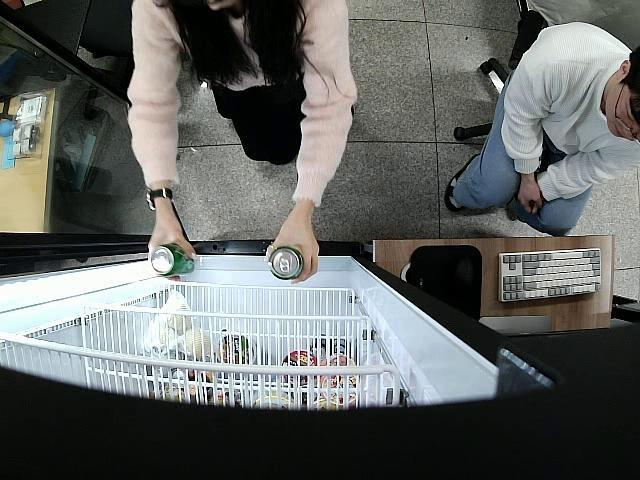12_chilsungCider: (150, 243, 195, 278), (266, 246, 306, 283)
